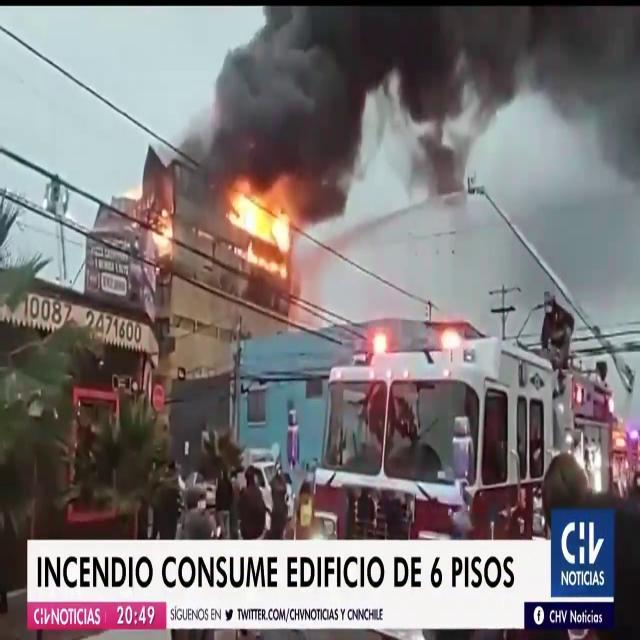Fire: (222, 181, 300, 274), (145, 199, 179, 259)
Smoke: (163, 0, 638, 198)
